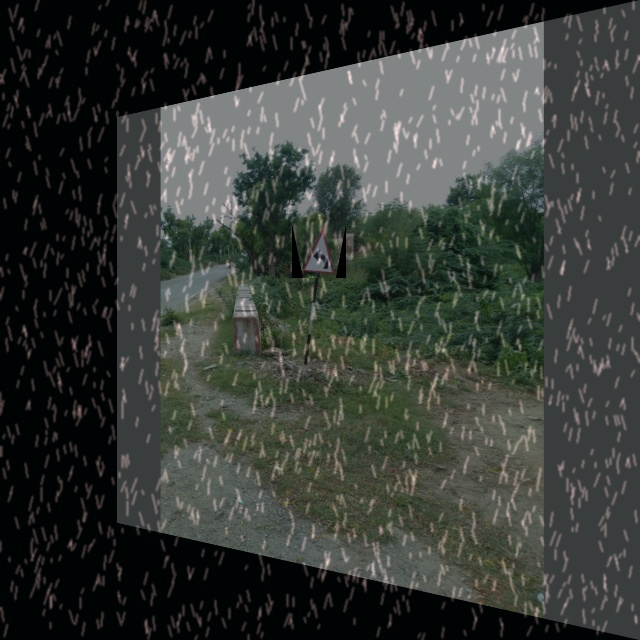Left_Hand_Curve: (292, 223, 346, 278)
